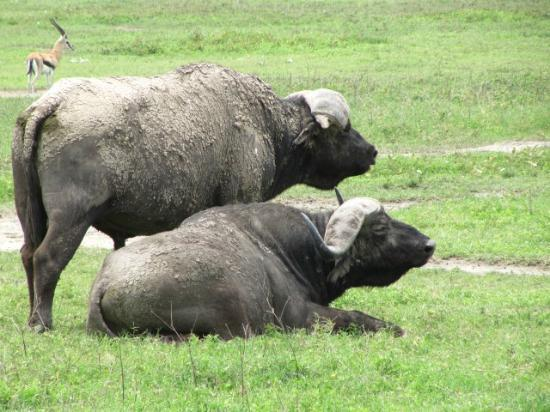Buffalo: (6, 63, 440, 338)
